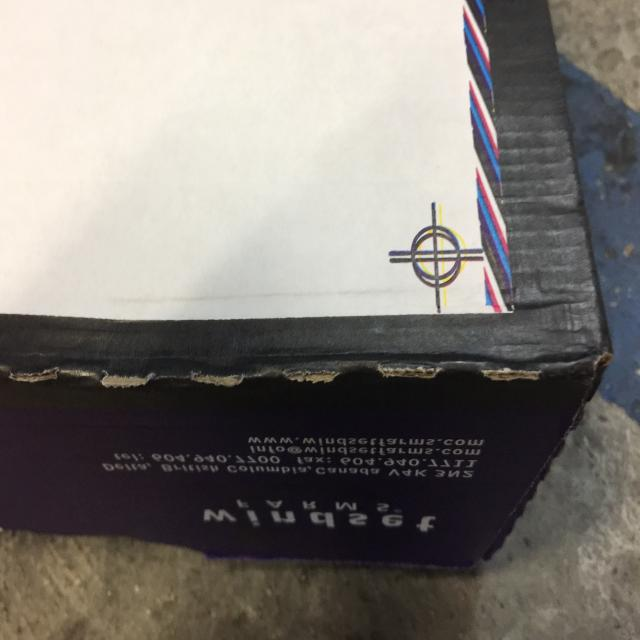cardboard: (1, 0, 592, 599)
